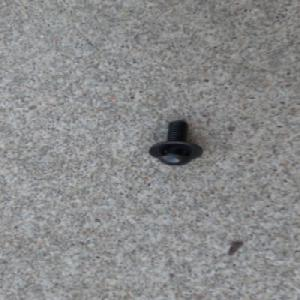BoltWasher: (147, 119, 204, 166)
